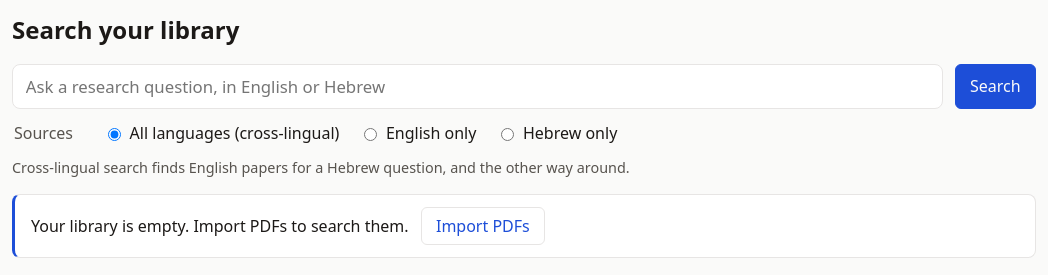
Test: SearchPage › explains cross-lingual search
Expected: the text "finds English papers for a Hebrew question" is shown, [12, 158, 630, 177]
Click the radio button labelled "English only" at (371, 134), box [364, 128, 377, 141]
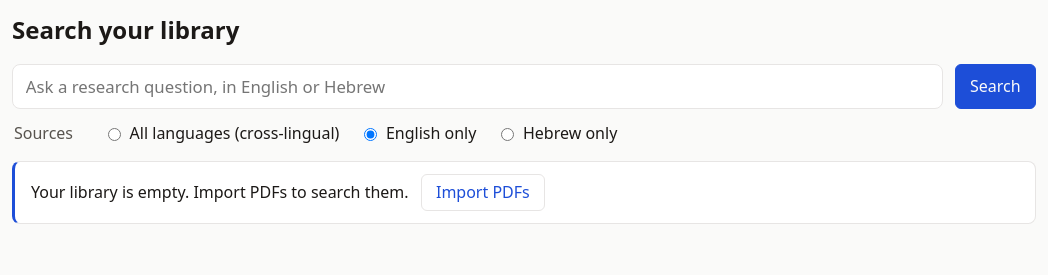
Expected: the text "finds English papers for a Hebrew question" is gone
